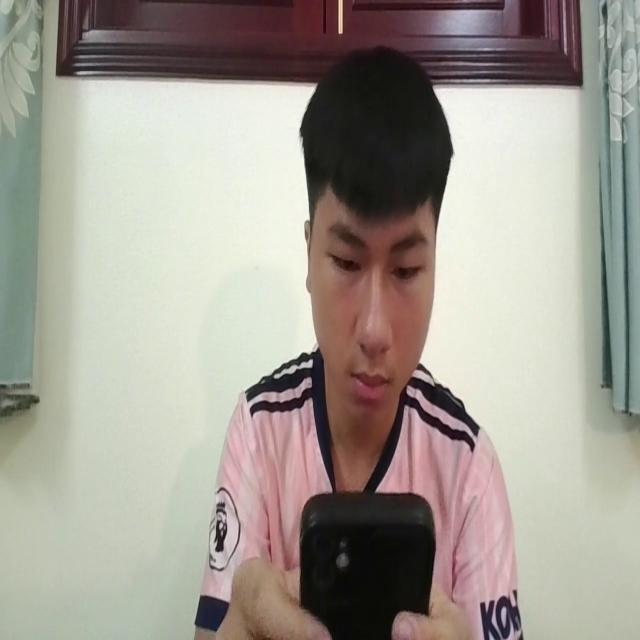phone: (297, 485, 437, 635)
student: (199, 46, 523, 640)
